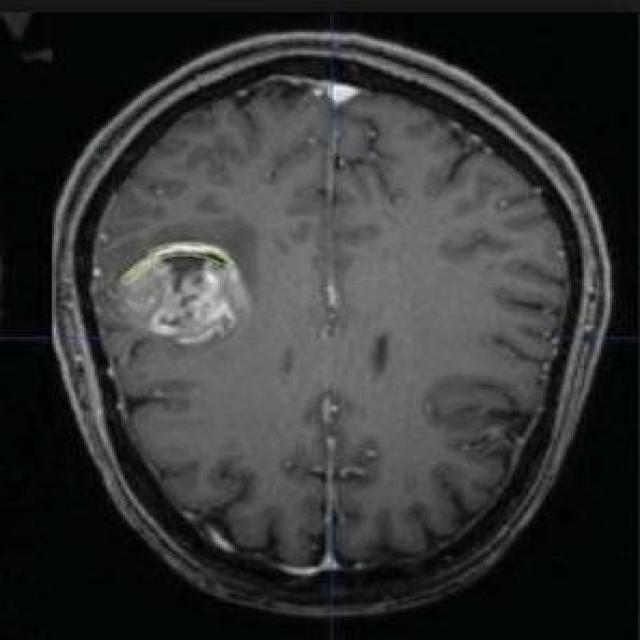Tumor-Cell: (101, 228, 259, 358)
